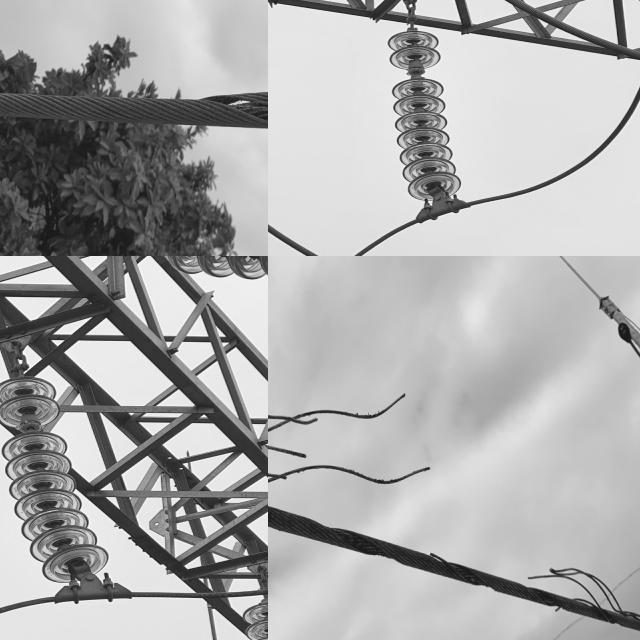杆塔: (0, 256, 268, 640), (268, 0, 640, 99)
正常绝缘子: (0, 361, 111, 596), (383, 7, 474, 218), (147, 256, 268, 286)
电缆破损: (268, 376, 640, 640), (189, 85, 268, 145)
绝缘子破损: (16, 414, 45, 431), (402, 66, 427, 76)
